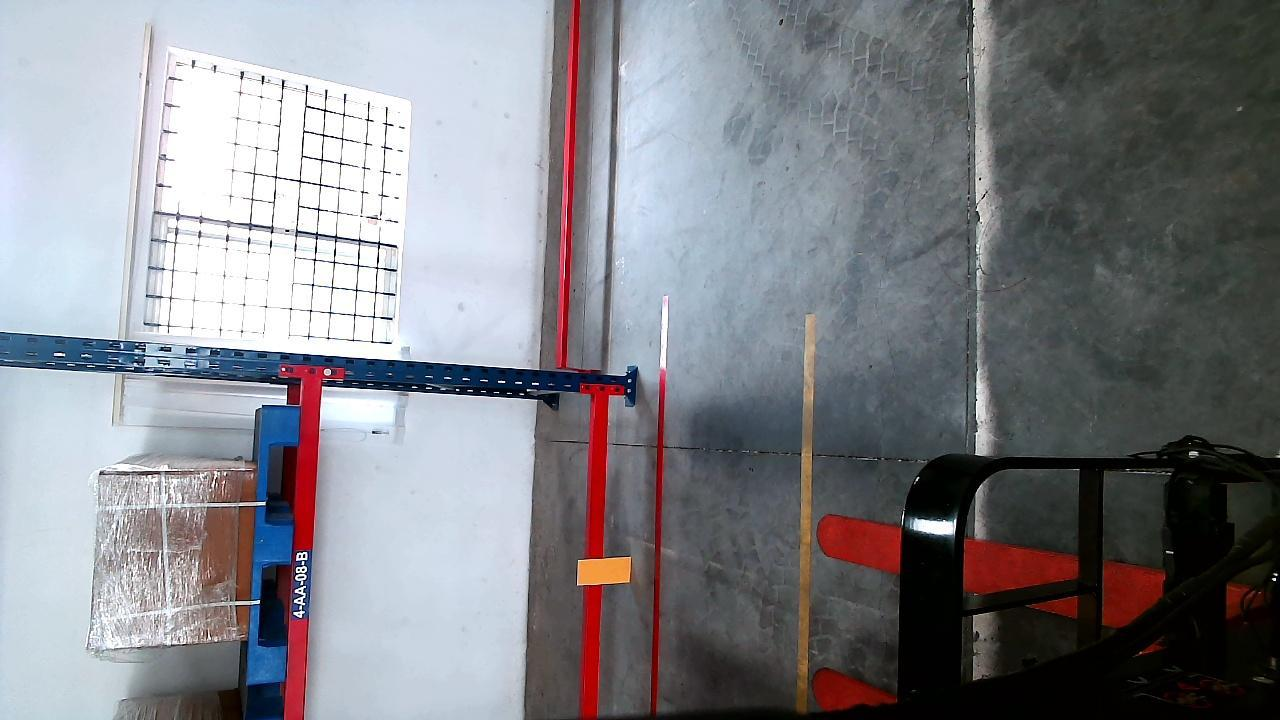red_line: (649, 295, 668, 713)
yellow_line: (796, 325, 817, 698)
